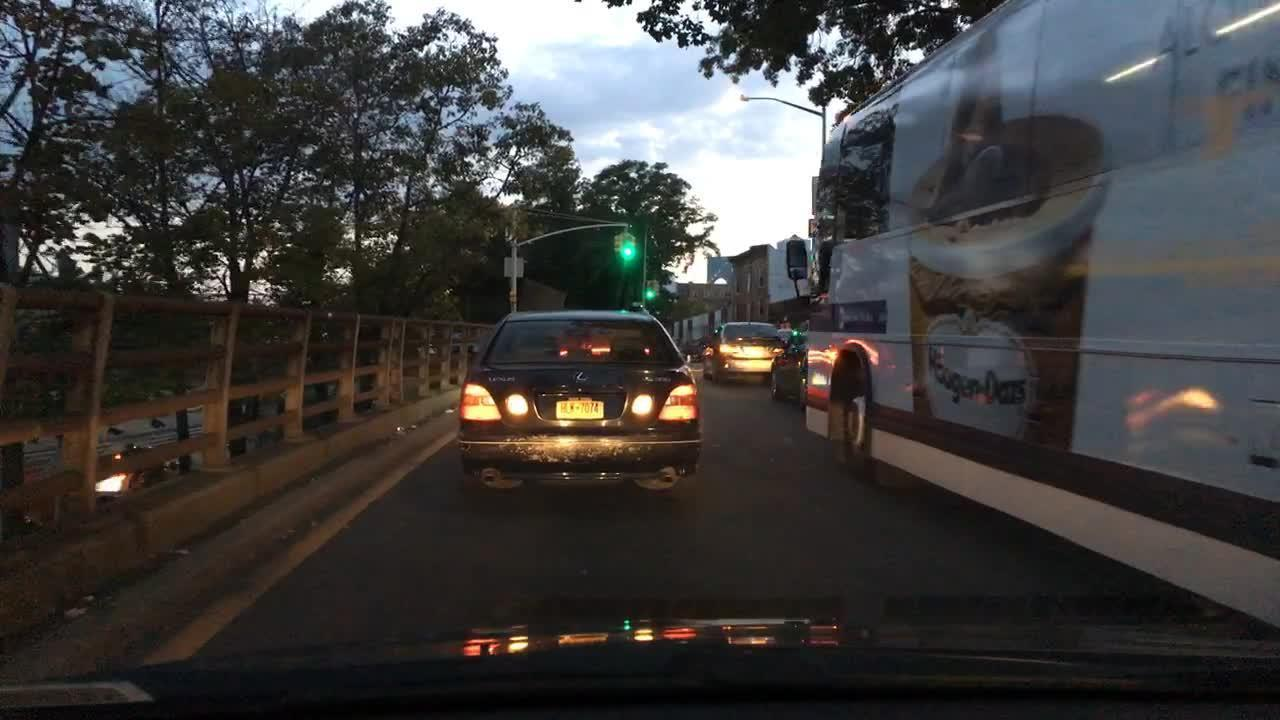lexus: (564, 366, 594, 387)
